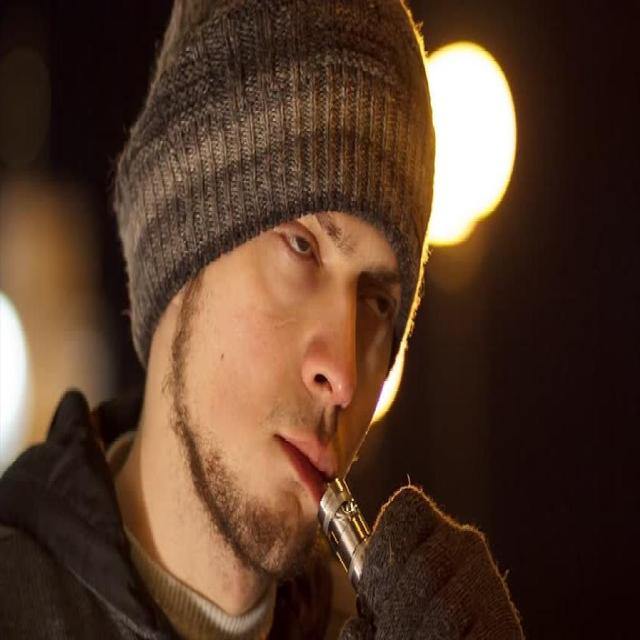smoking: (166, 110, 452, 604)
